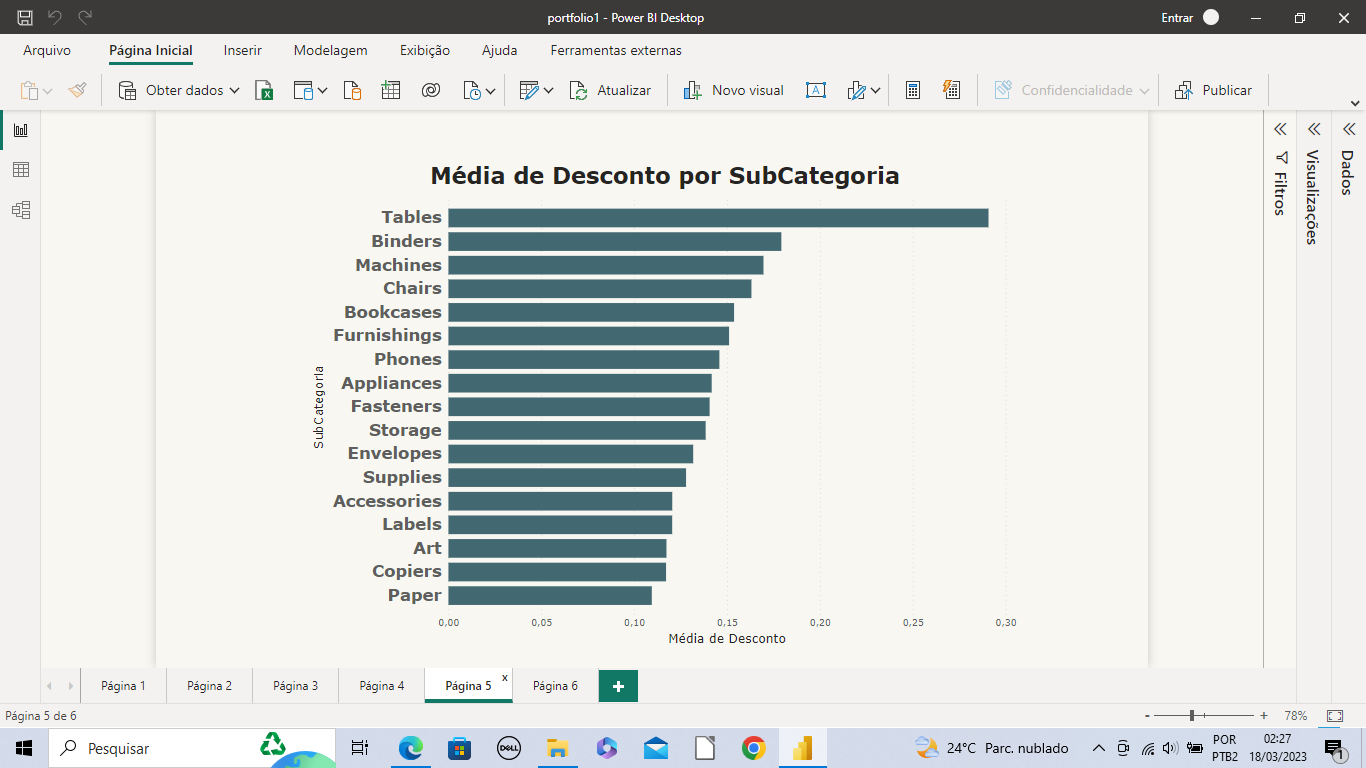

The dashboard page shown, as its layout file describes it:
{"tool":"powerbi","page":{"name":"Página 5","canvas":[1280,720],"ordinal":4},"visuals":[{"type":"clusteredBarChart","fields":{"Y":["Avg(dataset.Desconto)"],"Category":["dataset.SubCategoria"]},"box":[197,66.6,918.4,627.9],"z":0}]}

Visuals, with their boxes on the page's 1280x720 design canvas (x1, y1, x2, y2). These are canvas units, not pixel positions in the 1366x768 screenshot, which may show the page scaled, cropped or inside an application window:
clusteredBarChart - Avg(dataset.Desconto) x dataset.SubCategoria: box=[197, 67, 1115, 694]
